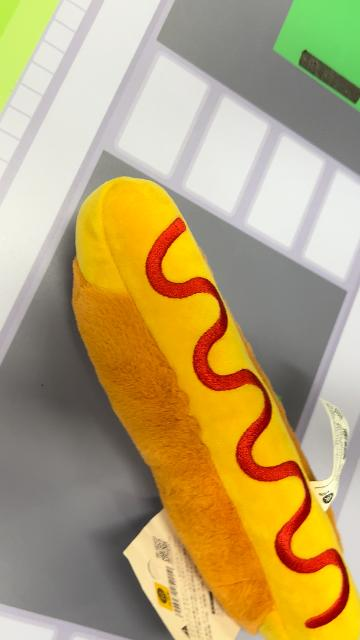hotdog: (71, 176, 358, 638)
